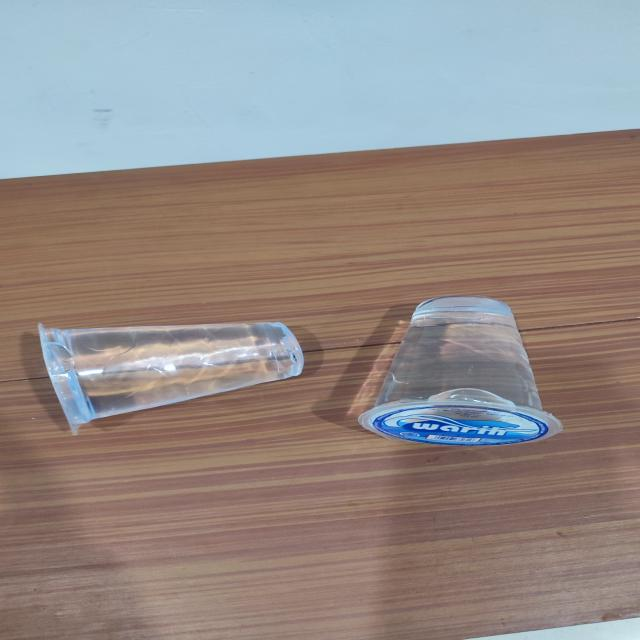air gelas: (29, 314, 312, 439), (359, 293, 571, 451)
